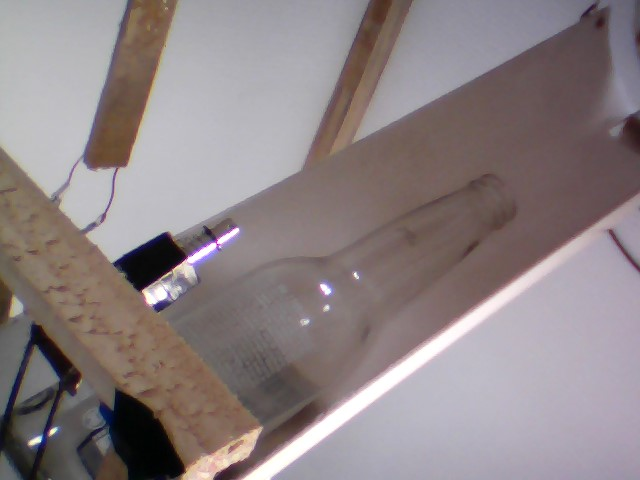vidrio: (173, 159, 529, 431)
